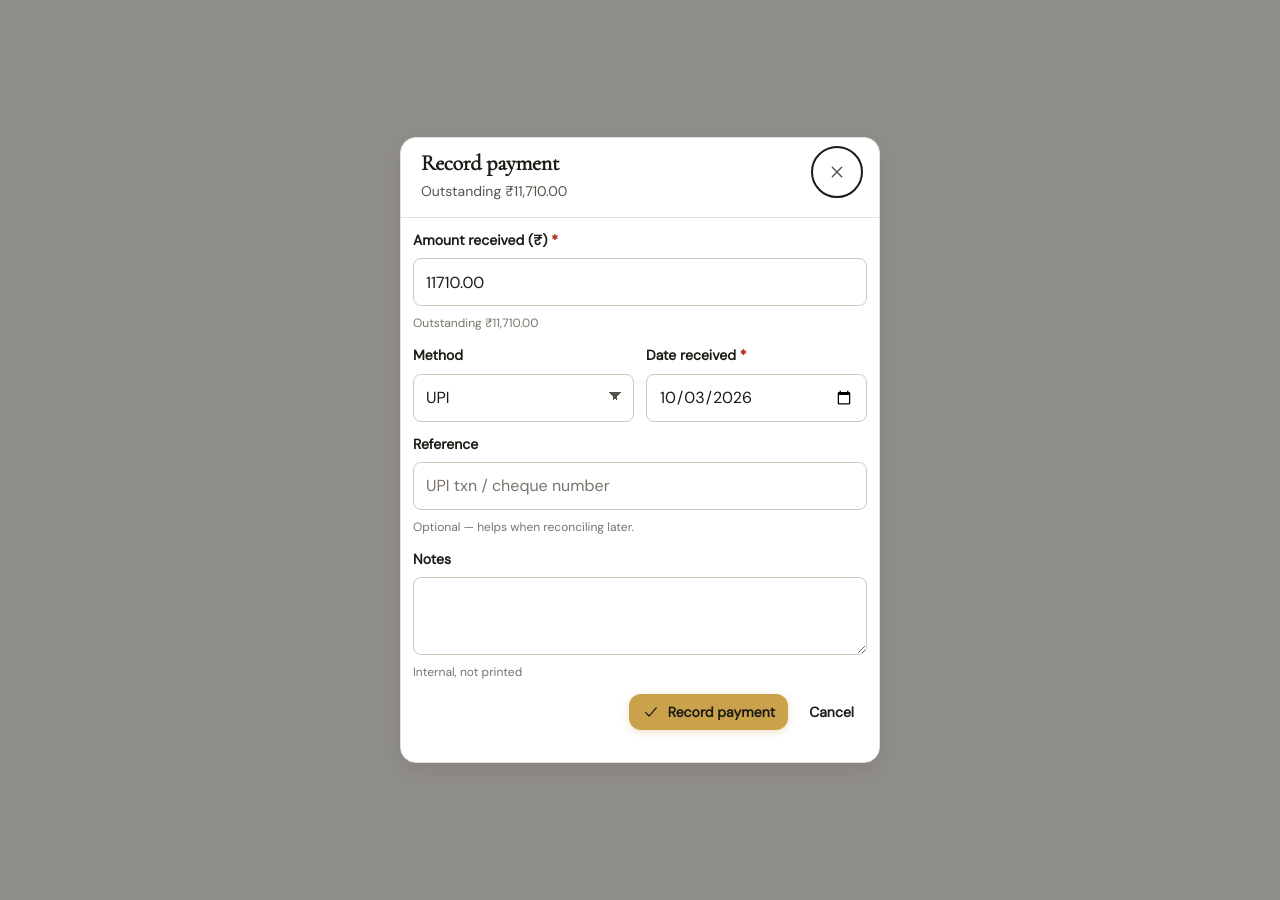
Test: PaymentSheet › warns live when the amount exceeds the outstanding balance
The image size is (1280, 900).
Replace the text in the field labelled "Amount received (₹) *" with "20000" at {"x": 640, "y": 282}, box x1=413 y1=258 x2=867 y2=306
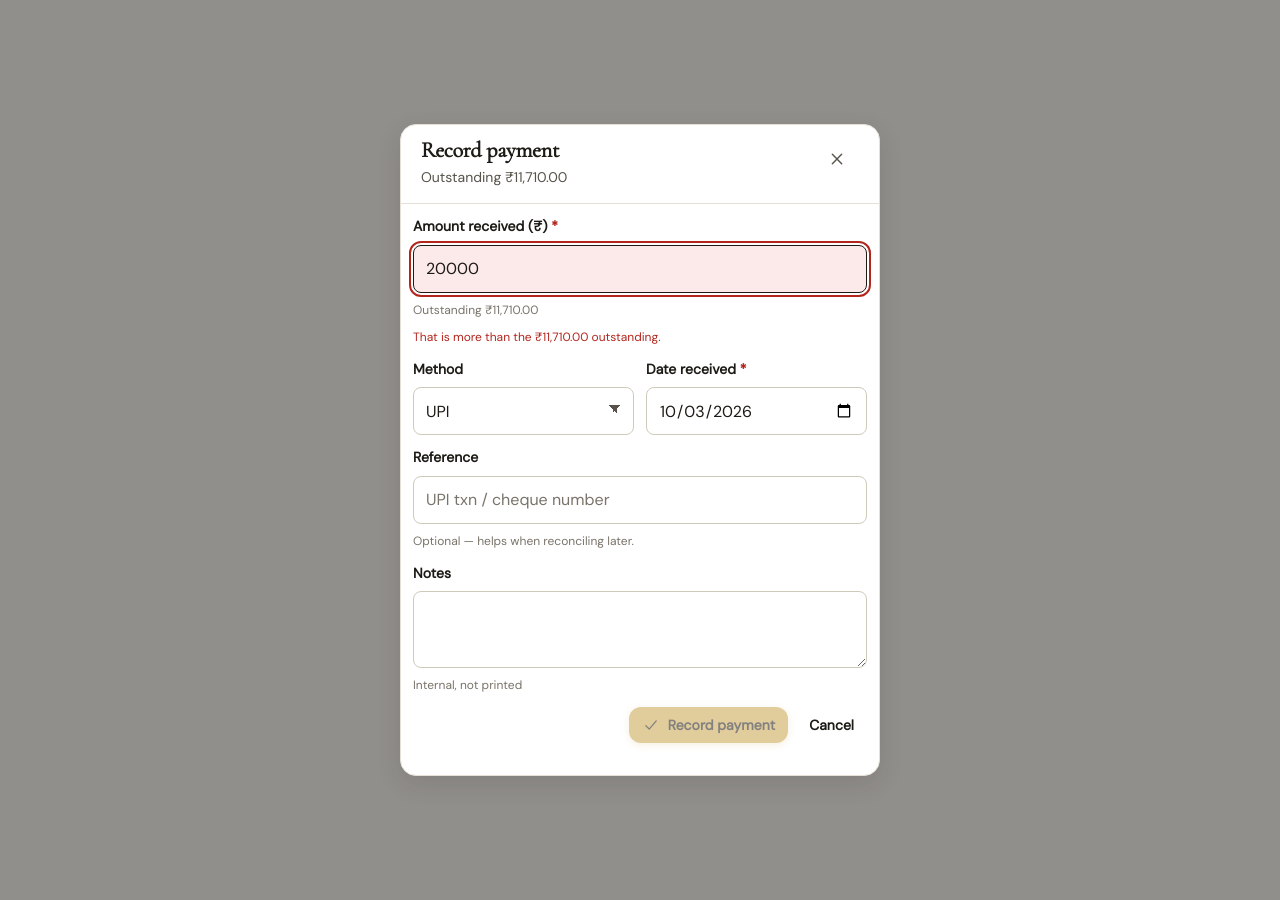
Now the button "Record payment" is disabled, box x1=629 y1=707 x2=788 y2=743
Now the text "That is more than the ₹11,710.00 outstanding." is shown, box x1=413 y1=329 x2=661 y2=345
